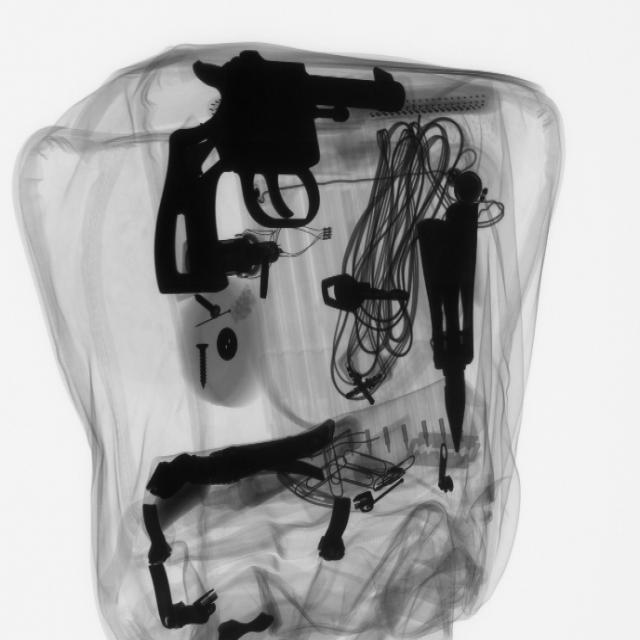GUN: (147, 54, 418, 275)
SCREW: (181, 335, 222, 398), (179, 288, 231, 332)
